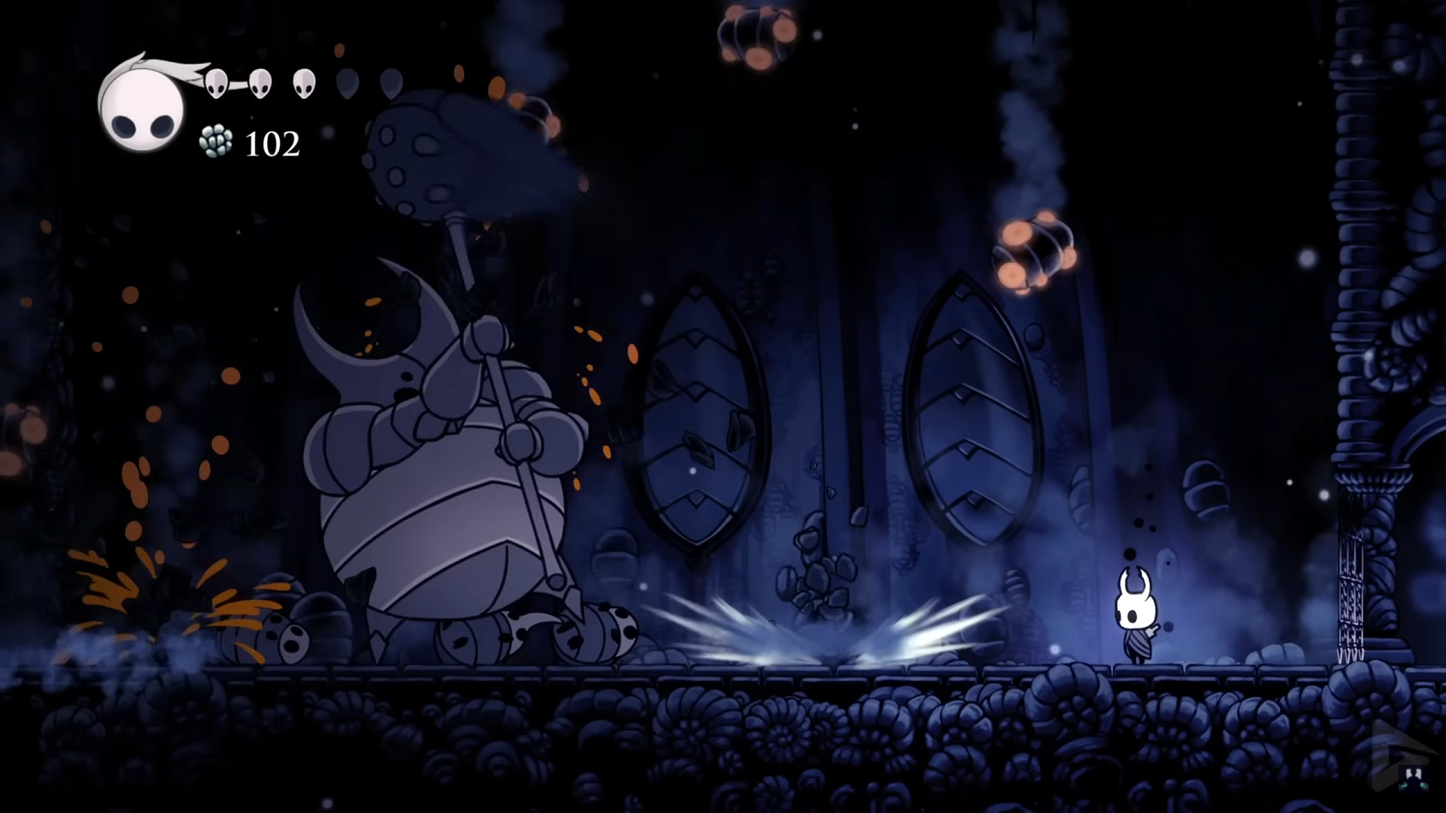HK: (1110, 558, 1167, 667)
